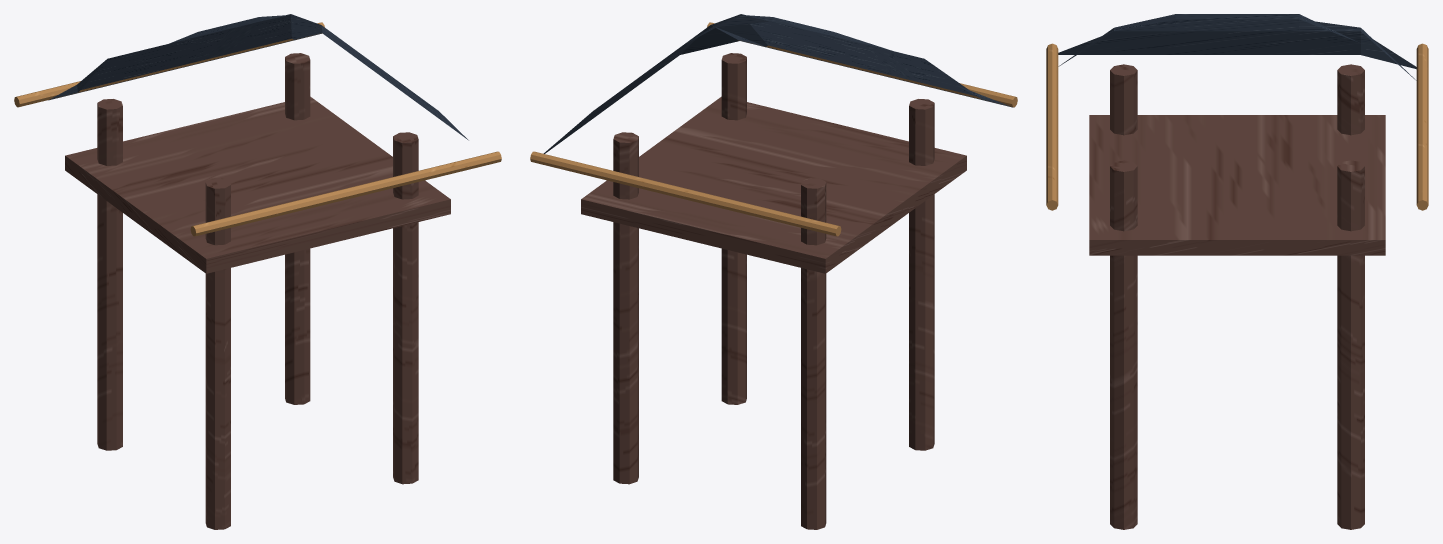
Rendered from shogun_guard_watchpost_lod0.glb.
3 views of the same model, side by side, from view 1: azimuth 30°, elevation 25°; view 2: azimuth 150°, elevation 25°; view 3: azimuth 270°, elevation 25° (orthographic). The views are drawn at different scales.
Parts seen in each view (by area): view 1: shogun_guard_watchpost_004, shogun_guard_watchpost_003, shogun_guard_watchpost_001, shogun_guard_watchpost_000, shogun_guard_watchpost_005, shogun_guard_watchpost_002, shogun_guard_watchpost_007, shogun_guard_watchpost_006; view 2: shogun_guard_watchpost_004, shogun_guard_watchpost_005, shogun_guard_watchpost_002, shogun_guard_watchpost_000, shogun_guard_watchpost_001, shogun_guard_watchpost_003, shogun_guard_watchpost_006, shogun_guard_watchpost_007; view 3: shogun_guard_watchpost_004, shogun_guard_watchpost_005, shogun_guard_watchpost_002, shogun_guard_watchpost_003, shogun_guard_watchpost_006, shogun_guard_watchpost_007, shogun_guard_watchpost_000, shogun_guard_watchpost_001.
Part boxes in pixels (x1,y1,x2,y2): shogun_guard_watchpost_004: (65, 96, 450, 273); shogun_guard_watchpost_003: (393, 132, 418, 484); shogun_guard_watchpost_001: (205, 178, 230, 529); shogun_guard_watchpost_000: (97, 99, 122, 450); shogun_guard_watchpost_005: (48, 14, 468, 140); shogun_guard_watchpost_002: (285, 53, 310, 404); shogun_guard_watchpost_007: (190, 151, 501, 236); shogun_guard_watchpost_006: (14, 22, 324, 107); shogun_guard_watchpost_004: (581, 96, 966, 273); shogun_guard_watchpost_005: (543, 14, 1013, 153); shogun_guard_watchpost_002: (613, 132, 638, 484); shogun_guard_watchpost_000: (801, 178, 826, 529); shogun_guard_watchpost_001: (909, 99, 934, 450); shogun_guard_watchpost_003: (721, 53, 746, 404); shogun_guard_watchpost_006: (530, 151, 841, 236); shogun_guard_watchpost_007: (707, 22, 1017, 107); shogun_guard_watchpost_004: (1089, 115, 1385, 255); shogun_guard_watchpost_005: (1058, 14, 1416, 80); shogun_guard_watchpost_002: (1337, 160, 1364, 529); shogun_guard_watchpost_003: (1110, 160, 1137, 529); shogun_guard_watchpost_006: (1416, 43, 1428, 210); shogun_guard_watchpost_007: (1046, 43, 1058, 210); shogun_guard_watchpost_000: (1337, 64, 1364, 135); shogun_guard_watchpost_001: (1110, 64, 1137, 135).
Bounding box in the file's own units: 7.5 × 10.15 × 7.74.
3 materials, 3 textured.
